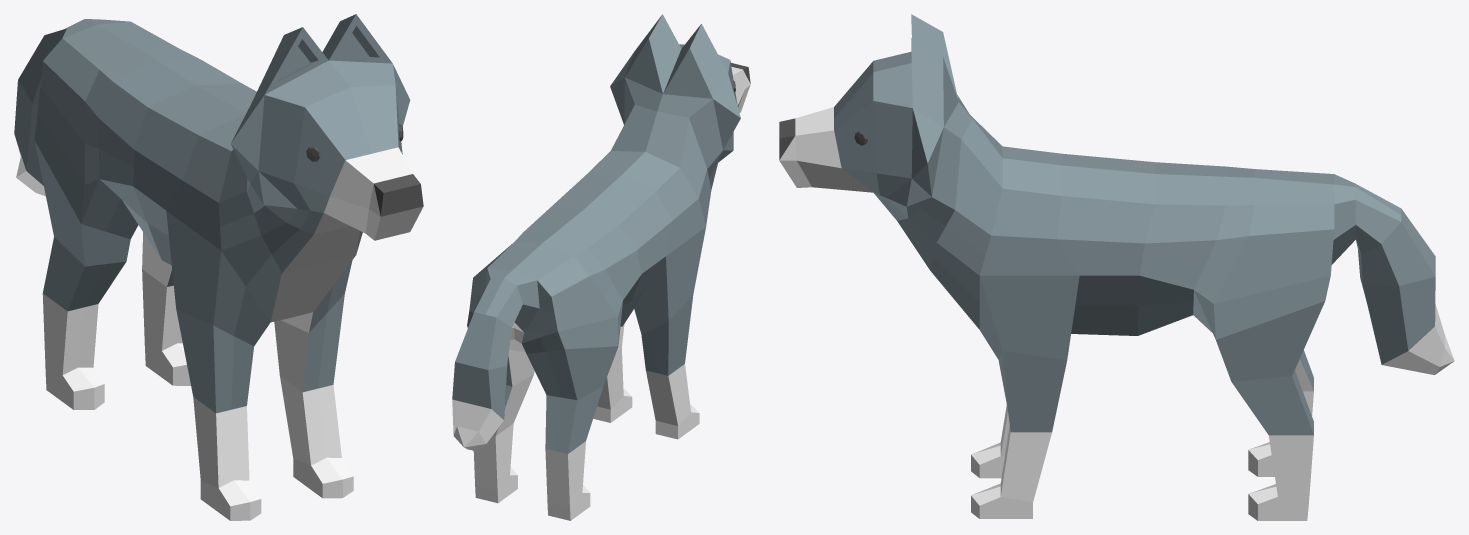
Rendered from animals-wolf-217.glb.
3 renders of one model, left to right at view 1: azimuth 30°, elevation 25°; view 2: azimuth 150°, elevation 25°; view 3: azimuth 270°, elevation 25°, orthographic. The views are drawn at different scales.
Visible parts, largest first — view 1: Wolf_01_Cube.049; view 2: Wolf_01_Cube.049; view 3: Wolf_01_Cube.049.
Boxes of the visible parts, x1,y1,x2,y2 form: Wolf_01_Cube.049: (14, 14, 423, 520); Wolf_01_Cube.049: (452, 14, 750, 520); Wolf_01_Cube.049: (779, 14, 1454, 520).
Bounding box in the file's own units: 3.8 × 10.37 × 13.61.
